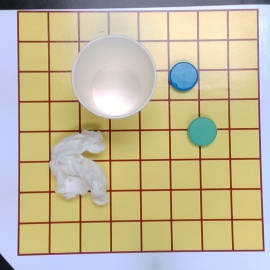blue: (170, 62, 198, 90)
cup: (70, 35, 156, 119)
green: (188, 118, 219, 147)
